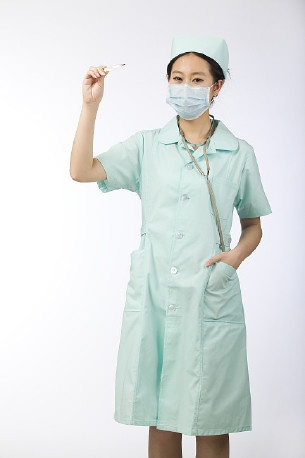Mask: (168, 67, 215, 114)
